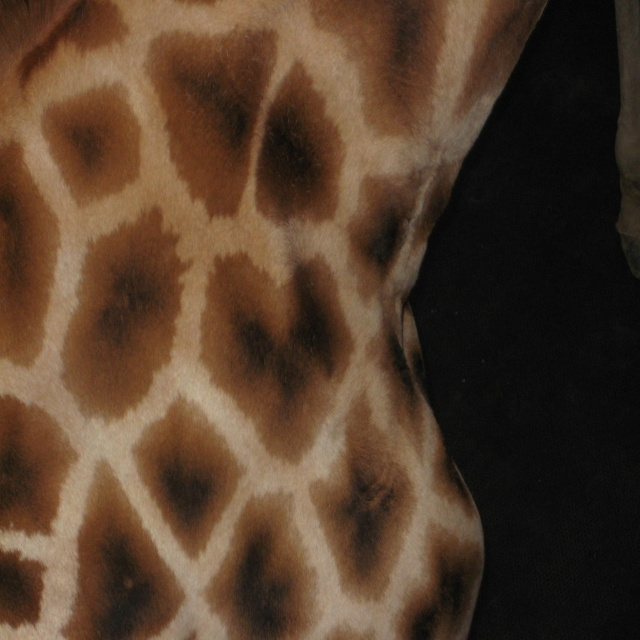Giraffe: (12, 2, 549, 627)
